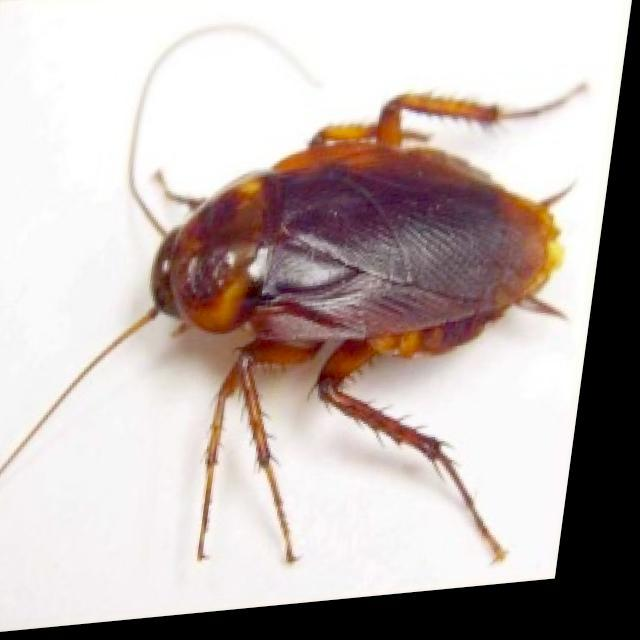cockroach: (3, 22, 591, 570)
